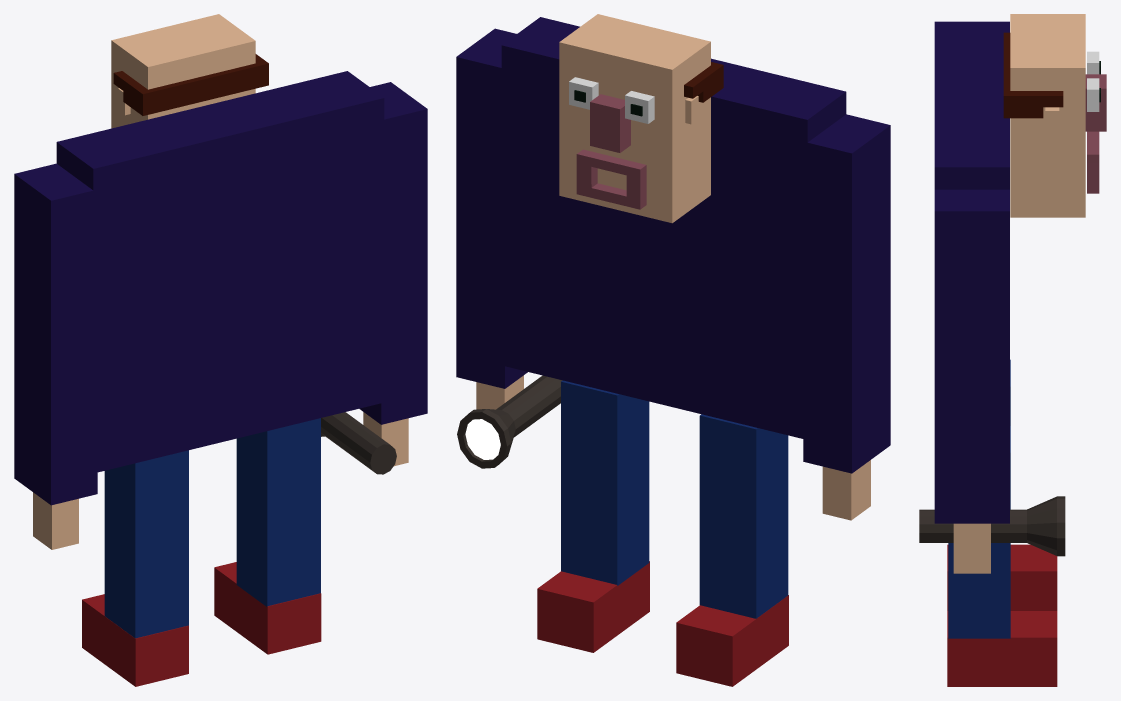
Rendered from Man.glb.
3 views of the same model, side by side, from view 1: azimuth 30°, elevation 25°; view 2: azimuth 150°, elevation 25°; view 3: azimuth 270°, elevation 25° (orthographic). The views are drawn at different scales.
Parts seen in each view (by area): view 1: Cube, Cube.002, Cube.003, Cube.006, Cube.007, Cube.001, Cube.009, Cube.008, Cube.013, Cylinder, Cube.004, Cube.005; view 2: Cube, Cube.002, Cube.001, Cube.003, Cube.007, Cube.006, Cube.008, Cube.009, Cylinder, Cube.016, Cube.004, Cube.010 (+4 smaller); view 3: Cube.003, Cube.001, Cube, Cube.009, Cube.006, Cylinder, Cube.008, Cube.013, Cube.005, Cube.010, Cube.016, Cube.012 (+2 smaller).
Boxes of the visible parts, left/top/right/bottom form: Cube: left=56, top=71, right=384, bottom=473; Cube.002: left=14, top=163, right=97, bottom=505; Cube.003: left=359, top=82, right=427, bottom=424; Cube.006: left=236, top=418, right=320, bottom=606; Cube.007: left=104, top=450, right=188, bottom=638; Cube.001: left=111, top=14, right=255, bottom=128; Cube.009: left=214, top=562, right=321, bottom=654; Cube.008: left=82, top=594, right=188, bottom=686; Cube.013: left=113, top=54, right=268, bottom=115; Cylinder: left=321, top=412, right=396, bottom=474; Cube.004: left=33, top=492, right=78, bottom=549; Cube.005: left=363, top=412, right=408, bottom=466; Cube: left=501, top=17, right=846, bottom=439; Cube.002: left=803, top=114, right=890, bottom=473; Cube.001: left=559, top=14, right=710, bottom=223; Cube.003: left=456, top=28, right=527, bottom=388; Cube.007: left=699, top=414, right=788, bottom=618; Cube.006: left=561, top=380, right=649, bottom=585; Cube.008: left=676, top=595, right=788, bottom=686; Cube.009: left=537, top=561, right=649, bottom=652; Cylinder: left=457, top=375, right=562, bottom=468; Cube.016: left=576, top=149, right=646, bottom=209; Cube.004: left=822, top=460, right=870, bottom=520; Cube.010: left=590, top=94, right=630, bottom=152; Cube.003: left=934, top=189, right=1009, bottom=523; Cube.001: left=1010, top=14, right=1085, bottom=217; Cube: left=934, top=21, right=1009, bottom=189; Cube.009: left=947, top=611, right=1057, bottom=686; Cube.006: left=948, top=426, right=1010, bottom=638; Cylinder: left=919, top=496, right=1065, bottom=556; Cube.008: left=947, top=544, right=1057, bottom=610; Cube.013: left=1003, top=32, right=1063, bottom=118; Cube.005: left=953, top=523, right=990, bottom=573; Cube.010: left=1085, top=74, right=1106, bottom=131; Cube.016: left=1087, top=131, right=1099, bottom=193; Cube.012: left=1087, top=78, right=1099, bottom=111.
Bounding box in the file's own units: 2.59 × 3.85 × 1.09.
